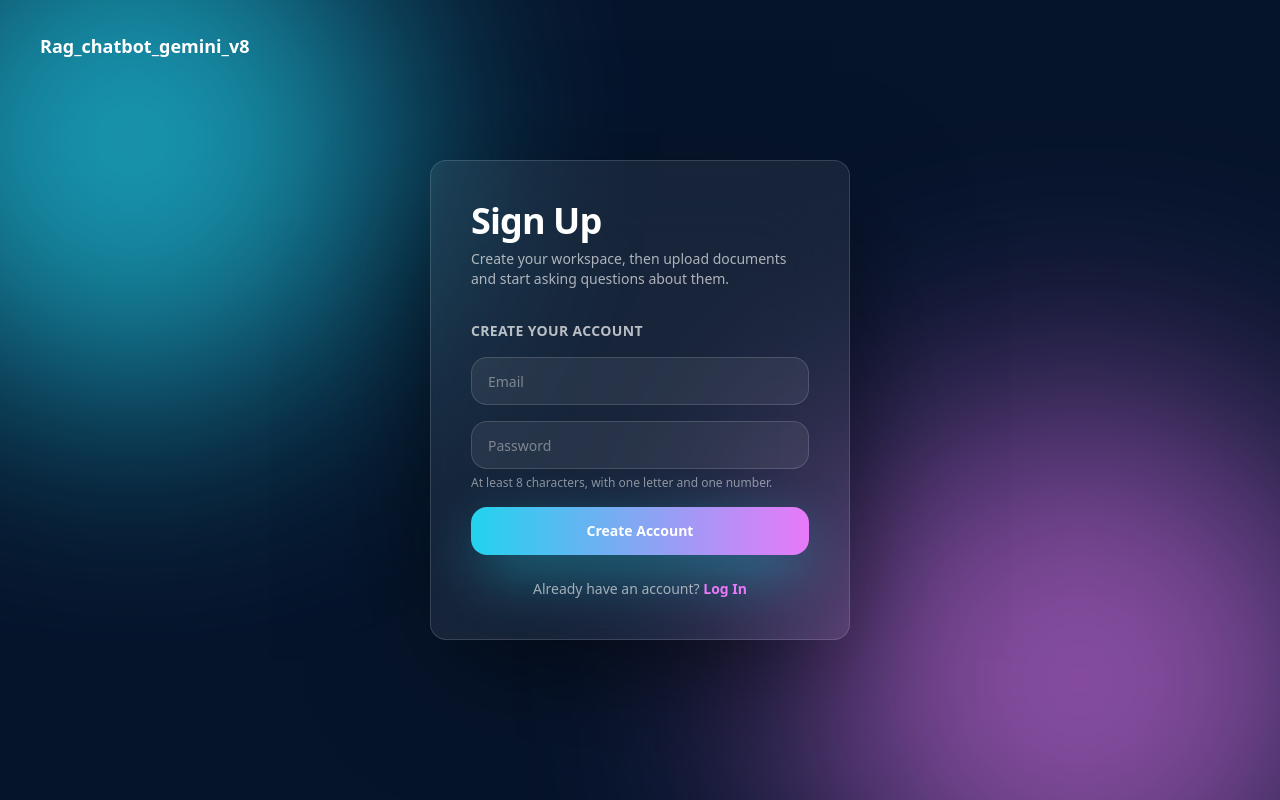
Test case: Signup › [AC-002] an email that already has an account shows the server's message, not a local demo-list check
In the field labelled "Email": (640, 381) [471,357,809,405], type "jordan.ramirez@gmail.com"
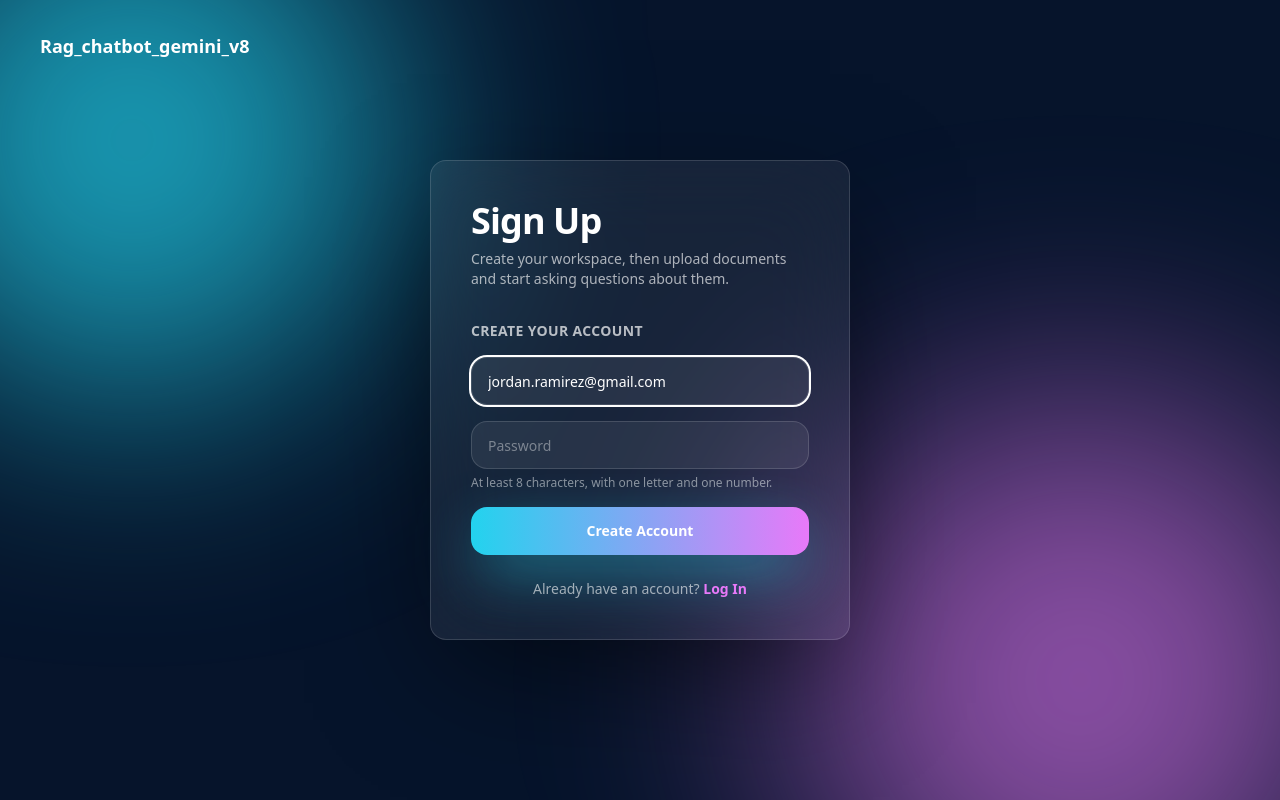
In the password field labelled "Password": (640, 445) [471,421,809,469], type "Password123"
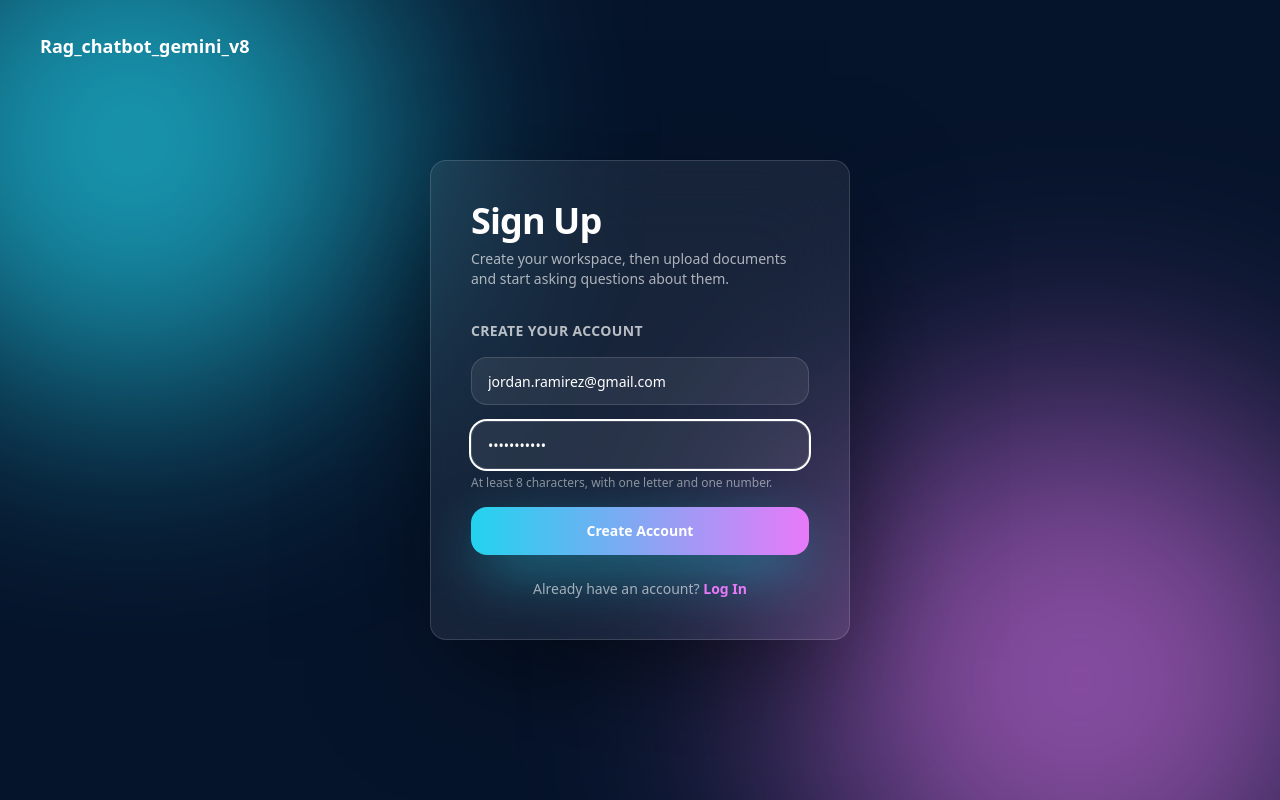
Click the button "Create Account": (640, 531) [471,507,809,555]
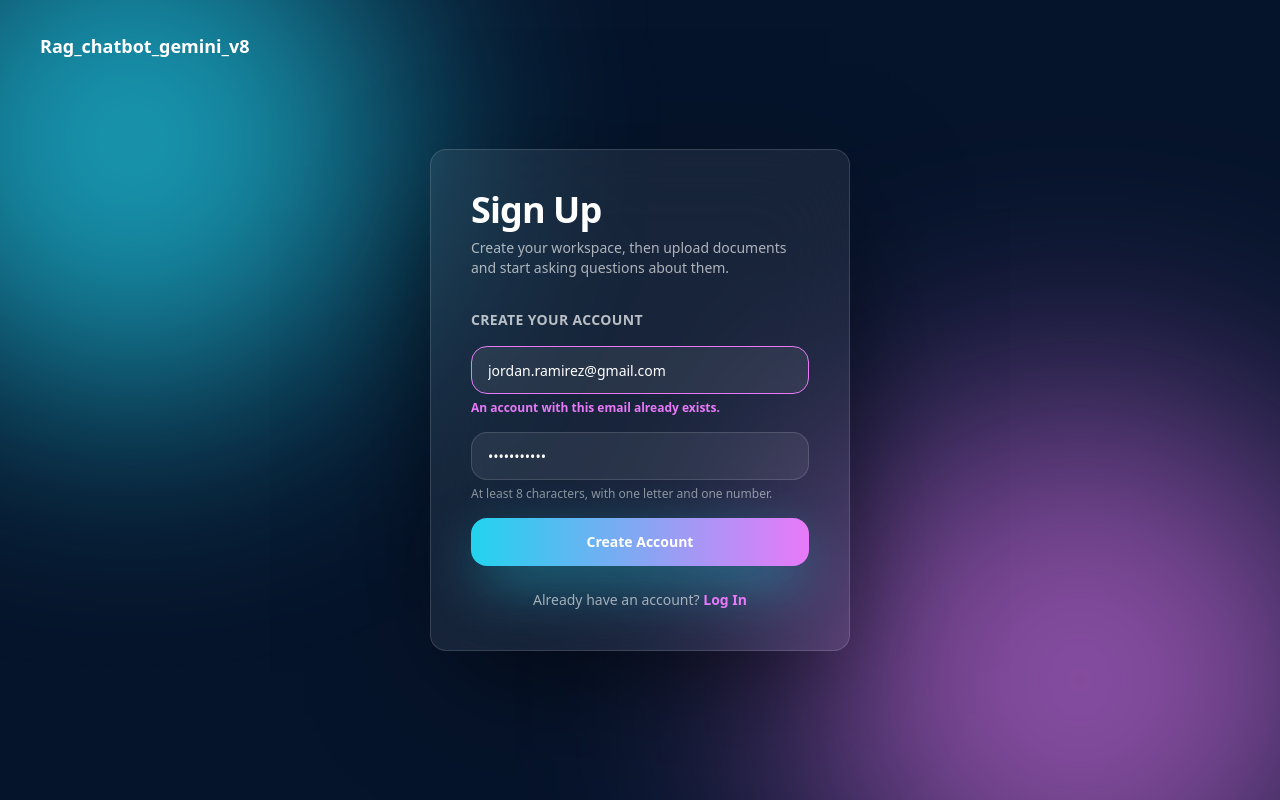
Check: the text "An account with this email already exists." is shown, box [471,399,720,416]
